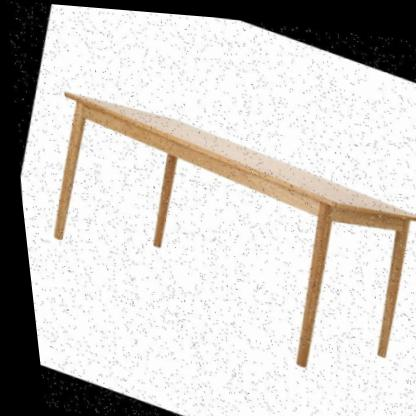Table: (3, 38, 416, 416)
